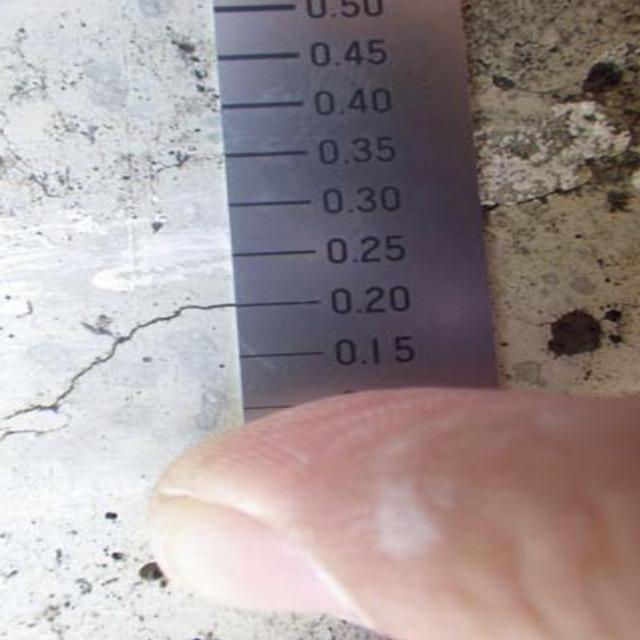crack: (3, 286, 230, 447), (484, 114, 639, 237)
